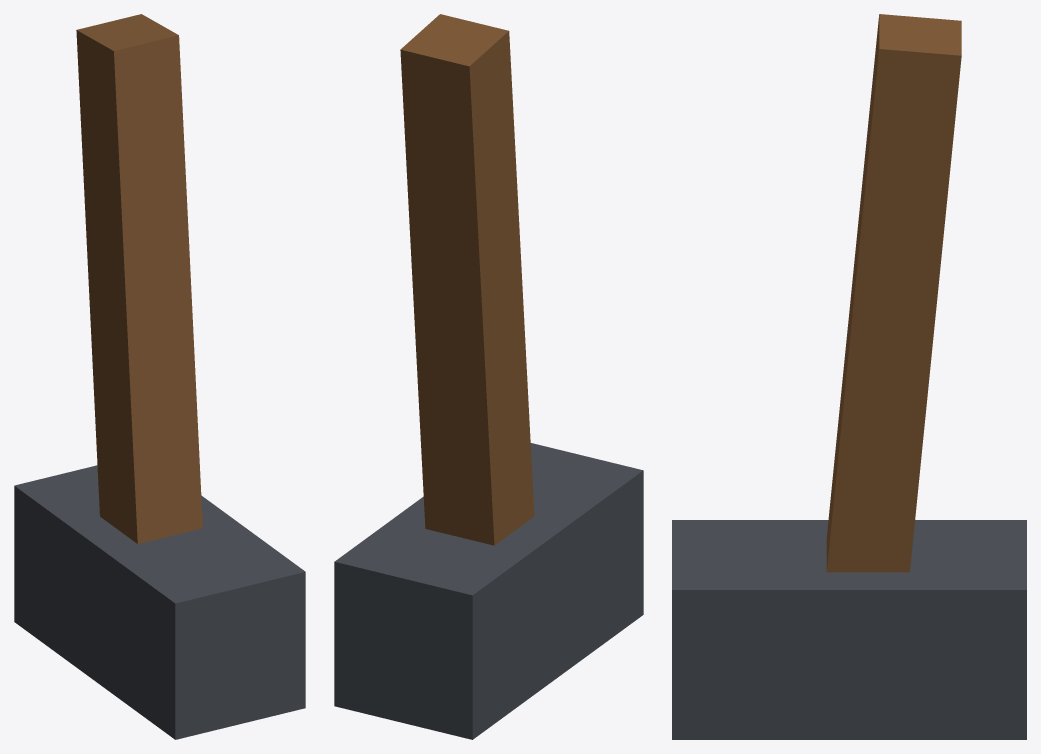
File: tool_hammer.glb
3 renders of one model, left to right at view 1: azimuth 30°, elevation 25°; view 2: azimuth 150°, elevation 25°; view 3: azimuth 270°, elevation 25°, orthographic. The views are drawn at different scales.
Parts seen in each view (by area): view 1: tool_hammer; view 2: tool_hammer; view 3: tool_hammer.
Boxes of the visible parts, bbox=[...] form: tool_hammer: bbox=[14, 14, 305, 739]; tool_hammer: bbox=[334, 14, 643, 739]; tool_hammer: bbox=[672, 14, 1026, 739].
Bounding box in the file's own units: 0.028 × 0.1256 × 0.06.
